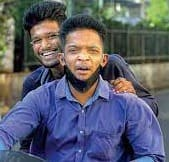mask_weared_incorrect: (65, 32, 102, 90)
without_mask: (31, 21, 60, 67)
